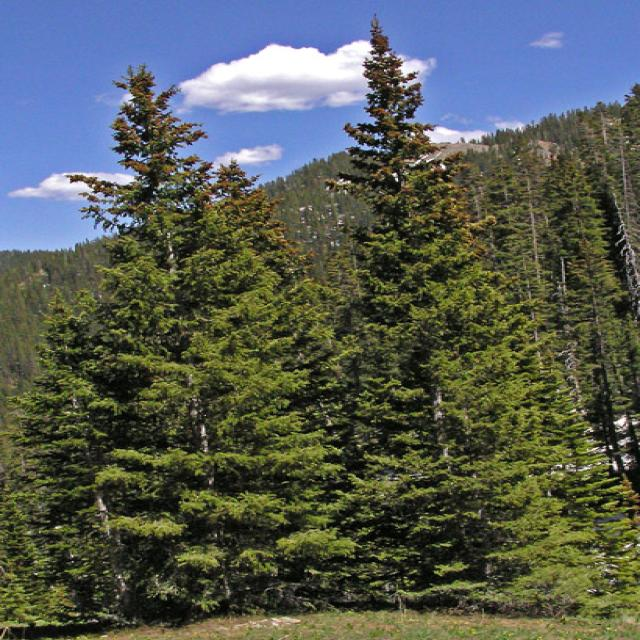Picea engelmannii: (326, 15, 640, 538), (64, 67, 356, 447), (80, 272, 367, 617)
